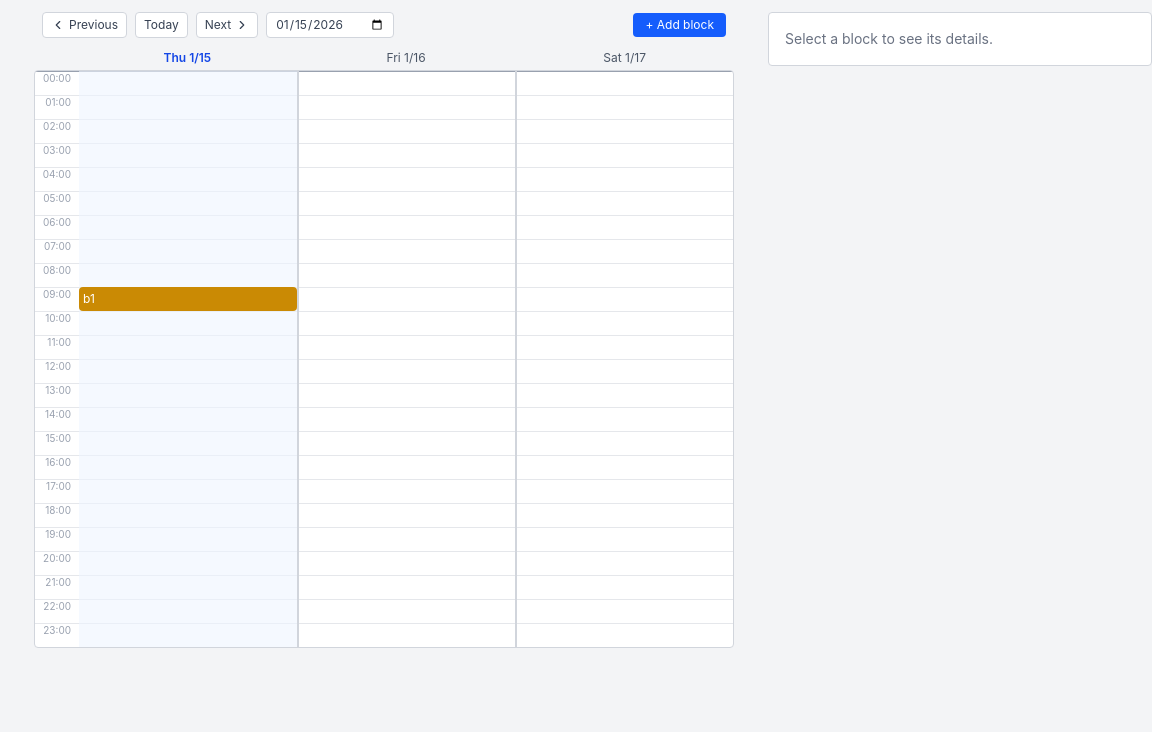
Test: CalendarPage grid › navigates one day at a time and jumps back to today
The width and height of the screenshot is (1152, 732).
Expected: the button with test id "block-b1" is shown, left=79, top=287, right=297, bottom=311
Click the button with test id "calendar-next". click: (227, 25)
box: left=196, top=12, right=258, bottom=38
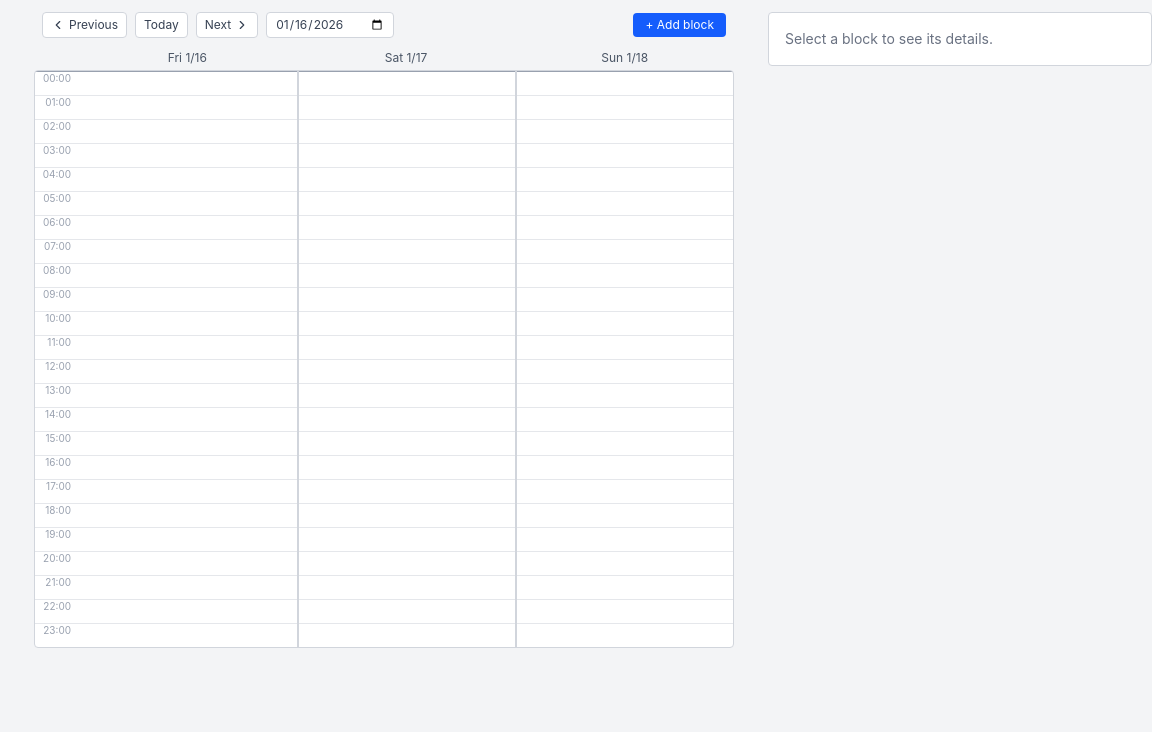
Expected: the text "Fri 1/16" is shown, left=168, top=50, right=207, bottom=65
Result: the button with test id "block-b1" is gone
Click the button with test id "calendar-today". click: (161, 25)
box: left=135, top=12, right=188, bottom=38
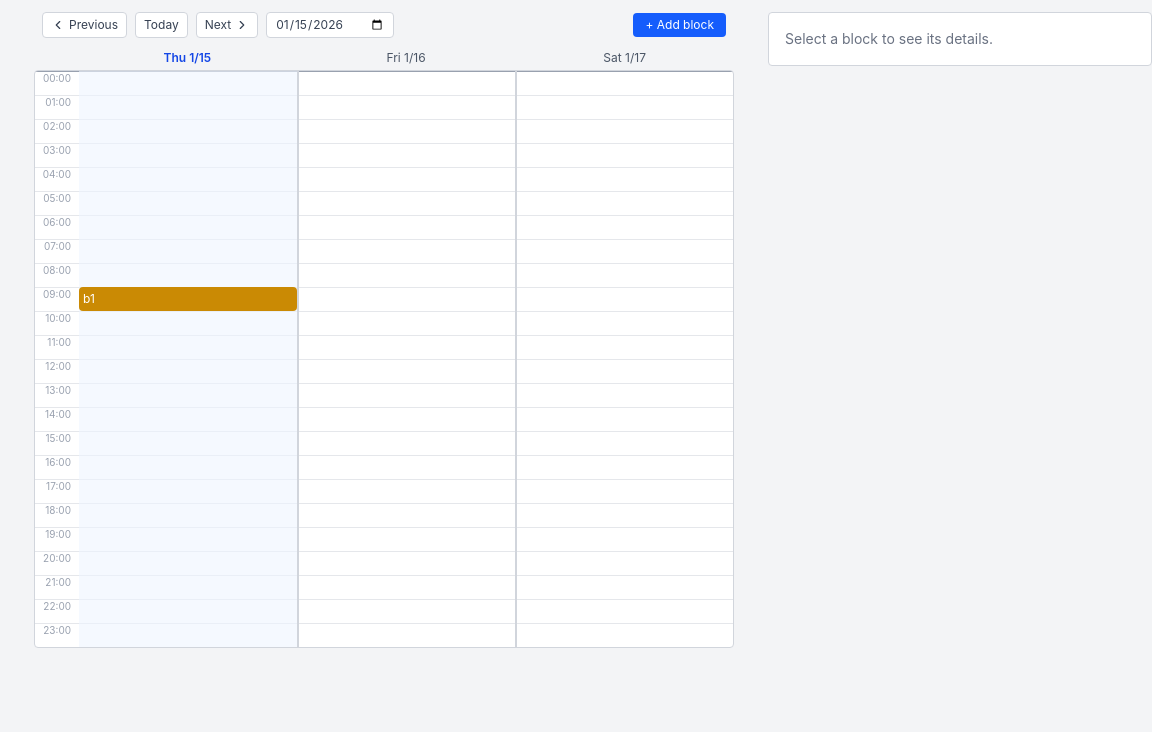
Result: the button with test id "block-b1" is shown at left=79, top=287, right=297, bottom=311
Click the button with test id "calendar-prev". click: (84, 25)
box: left=42, top=12, right=127, bottom=38
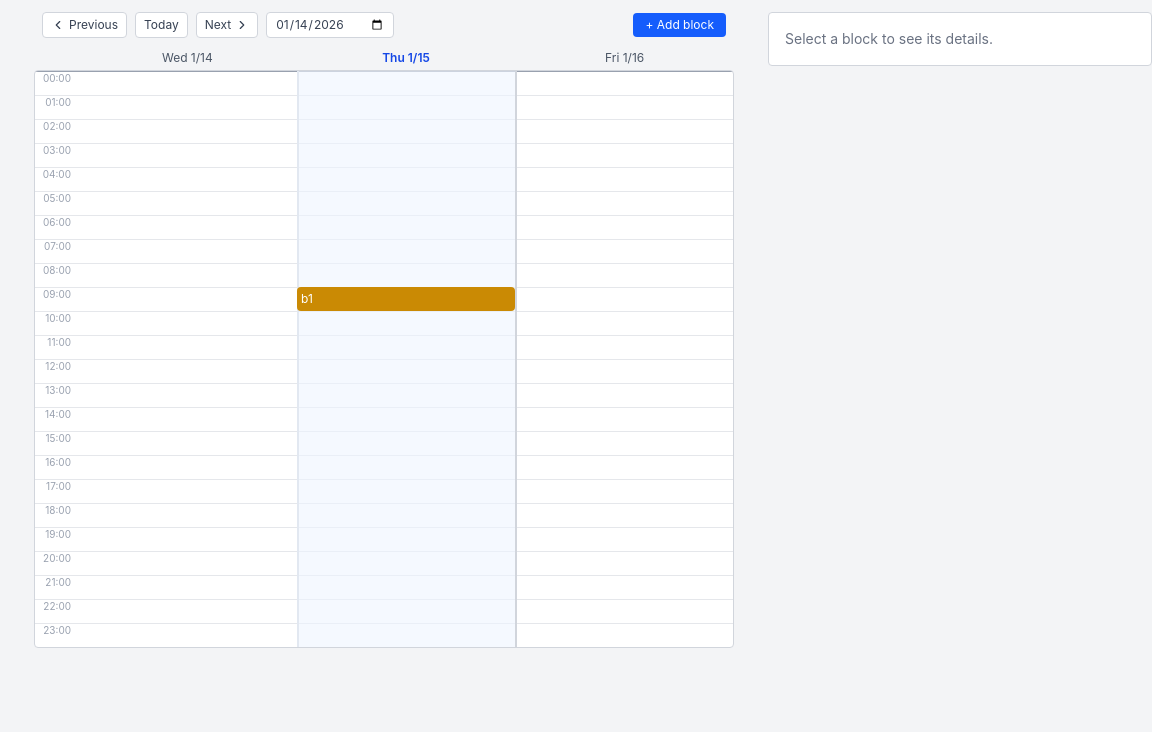
Result: the text "Wed 1/14" is shown at left=162, top=50, right=213, bottom=65
